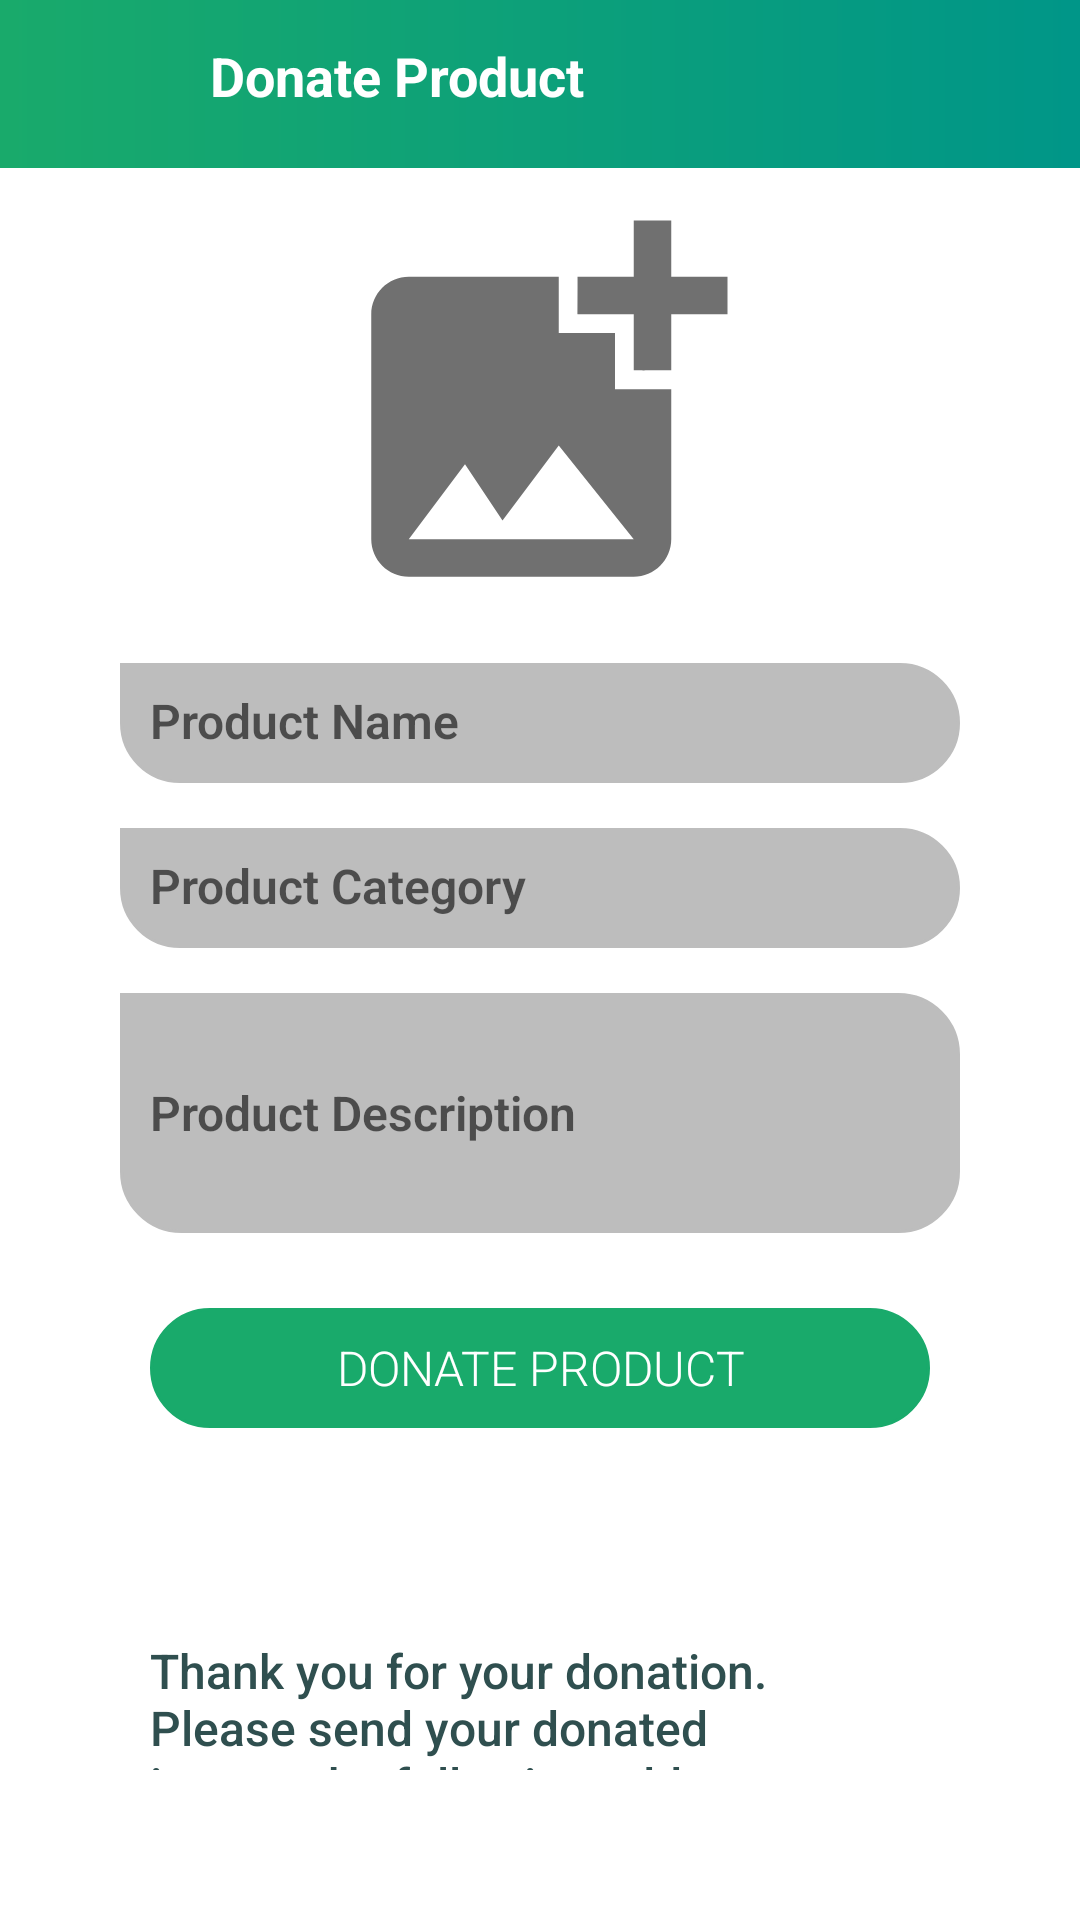

Where icons sit on this 1080x1920 app screen, as (x1, y1, x2, y2):
select product: (371, 220, 728, 577)
